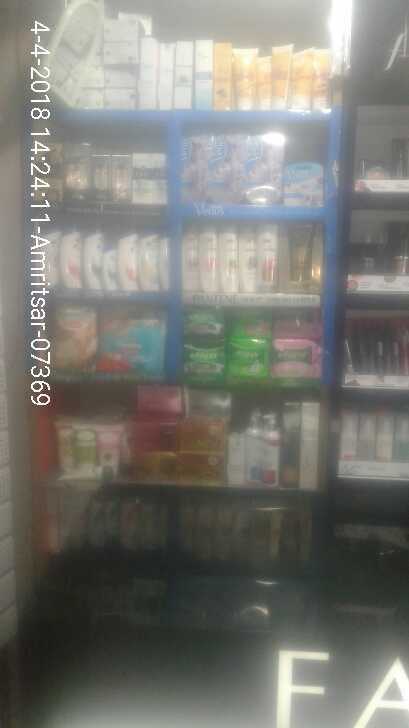venus: (246, 136, 282, 203), (211, 132, 243, 203), (286, 162, 324, 204), (186, 134, 208, 201)
